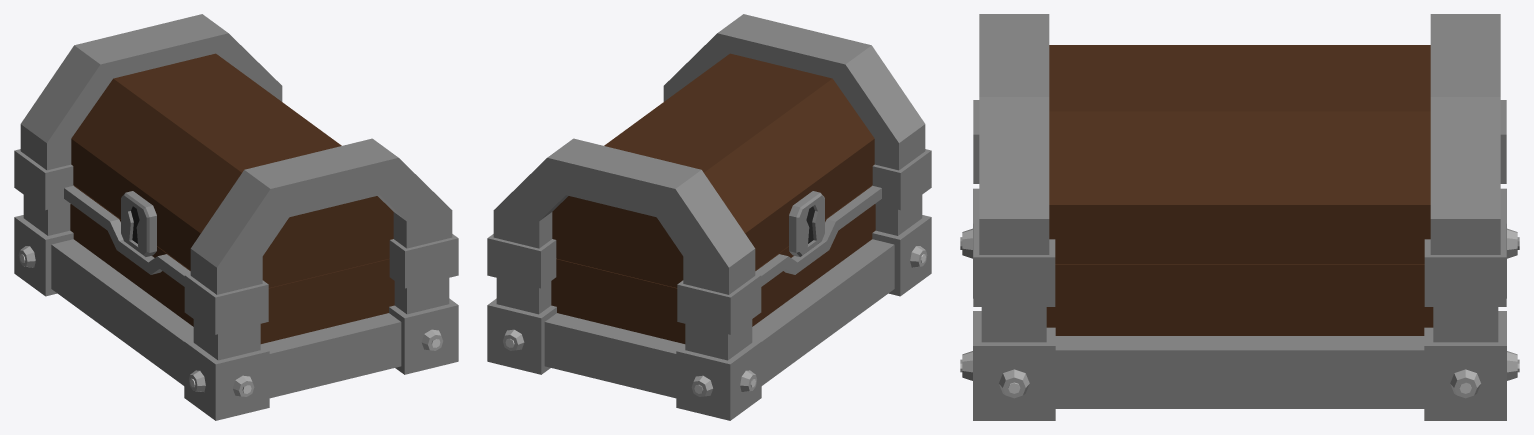
File: Chest.fbx
3 views of the same model, side by side, from view 1: azimuth 30°, elevation 25°; view 2: azimuth 150°, elevation 25°; view 3: azimuth 270°, elevation 25° (orthographic). The views are drawn at different scales.
Parts seen in each view (by area): view 1: UpperChest, LowerChest; view 2: UpperChest, LowerChest; view 3: UpperChest, LowerChest.
Part boxes in pixels (x1,y1,x2,y2): UpperChest: (14,14,458,334); LowerChest: (14,185,458,420); UpperChest: (487,14,931,334); LowerChest: (487,185,931,420); UpperChest: (973,14,1506,306); LowerChest: (960,188,1519,420).
Size of the model in its own units: 130 by 104 by 183.
